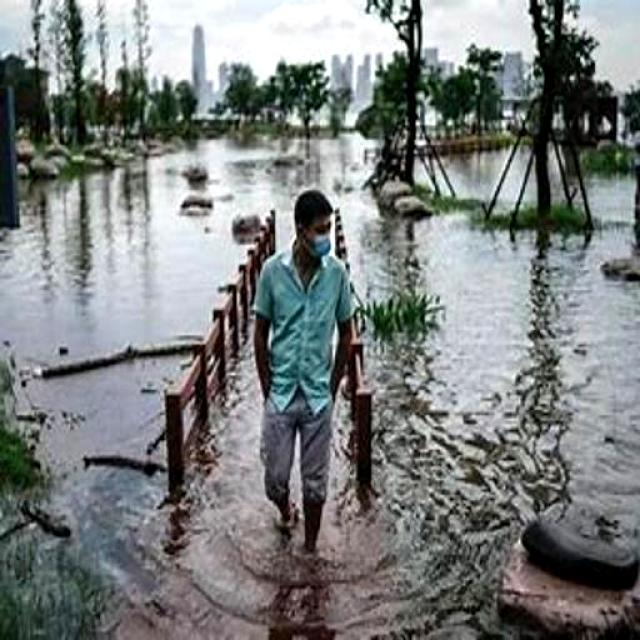civilian: (226, 162, 376, 564)
